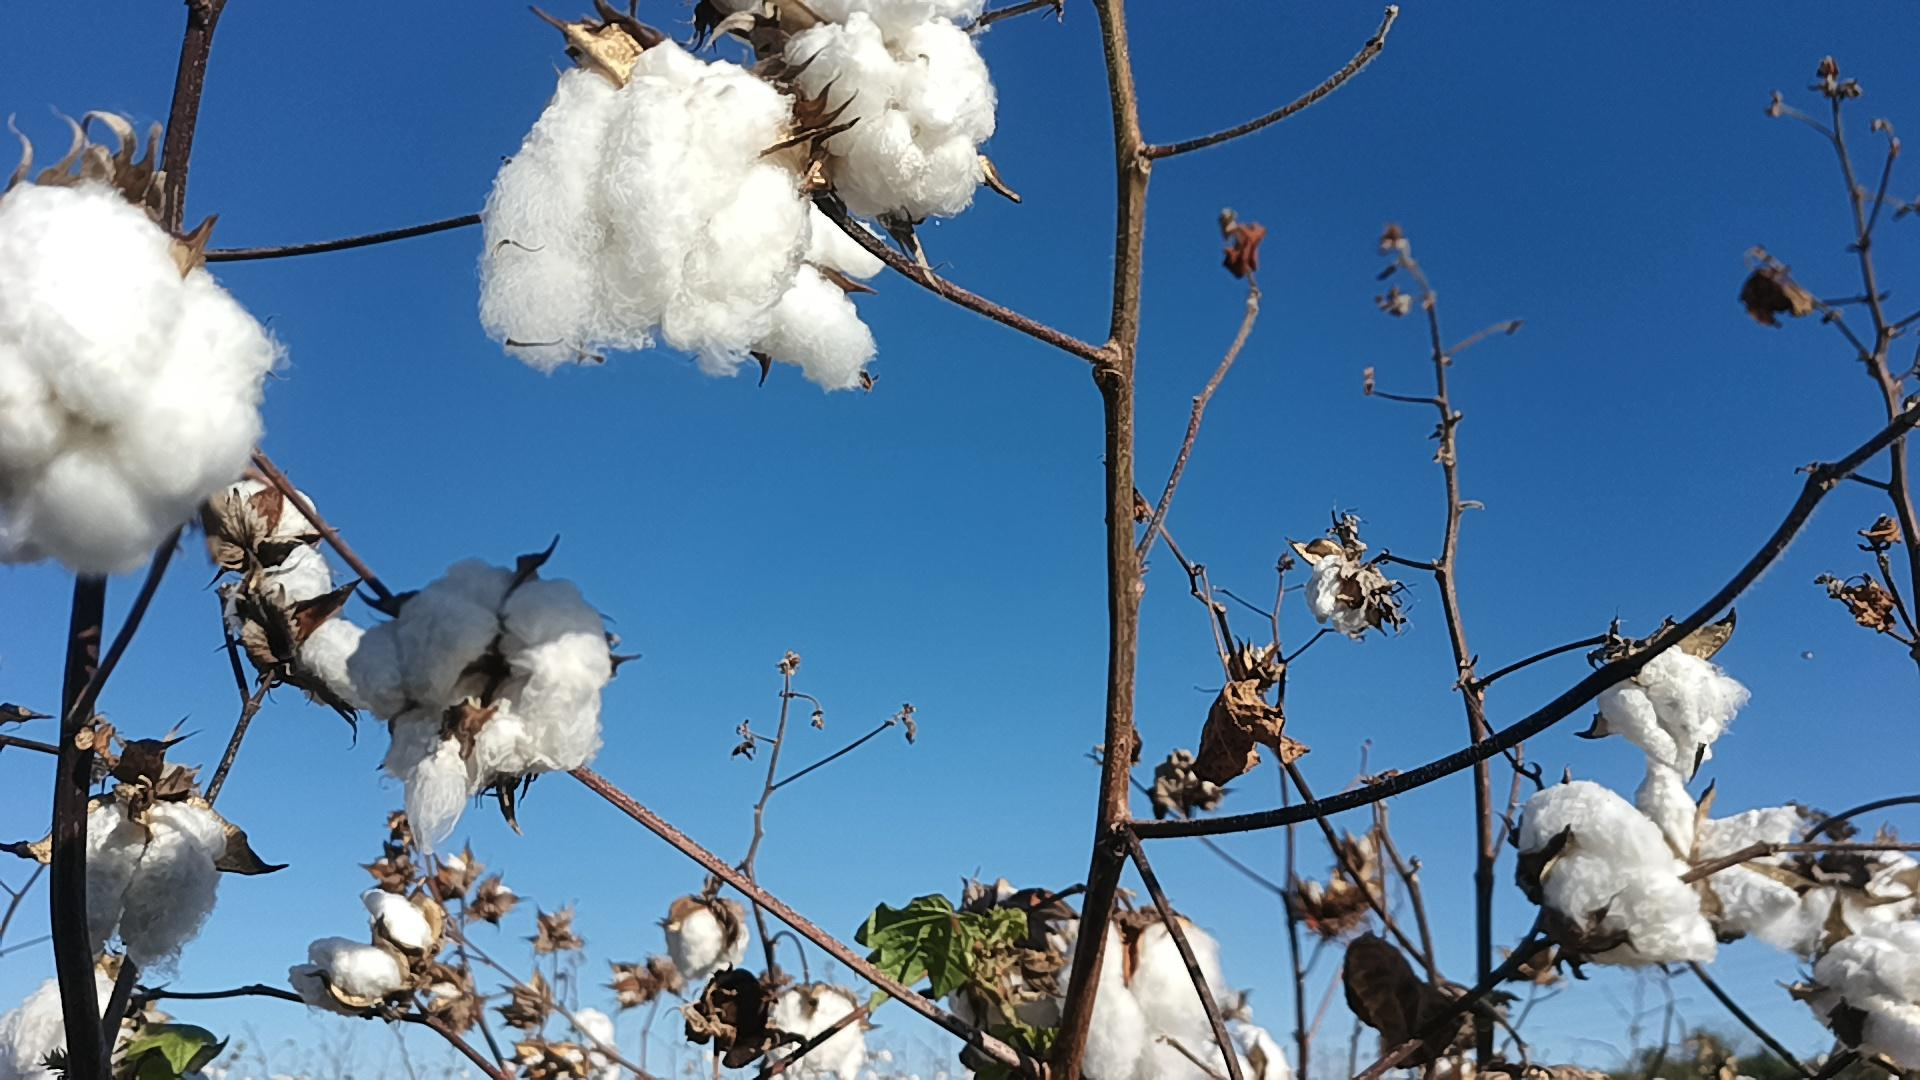cotton_ready: (476, 37, 806, 373), (0, 185, 273, 580), (345, 559, 611, 845), (790, 12, 998, 220), (1513, 786, 1720, 965), (728, 191, 893, 393), (1054, 906, 1221, 1080), (80, 795, 233, 969), (1646, 766, 1797, 940), (1598, 644, 1747, 781), (248, 545, 368, 713), (286, 886, 438, 1010), (1811, 920, 1920, 1075), (0, 968, 138, 1080), (1797, 848, 1920, 959), (762, 985, 868, 1080), (708, 0, 990, 33), (218, 483, 320, 563), (1147, 1026, 1291, 1080), (666, 906, 748, 971), (1308, 551, 1350, 625)
